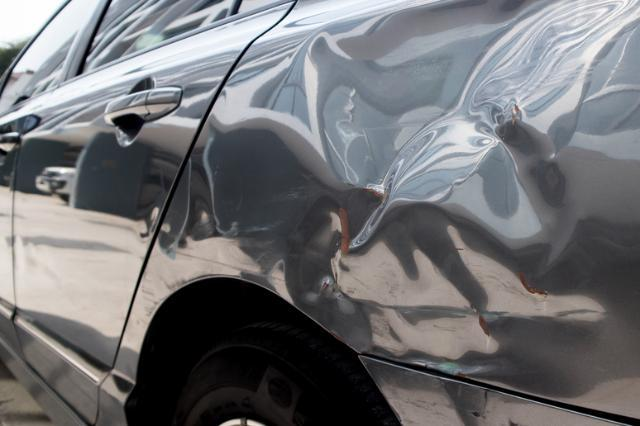Fender: (177, 42, 613, 410)
